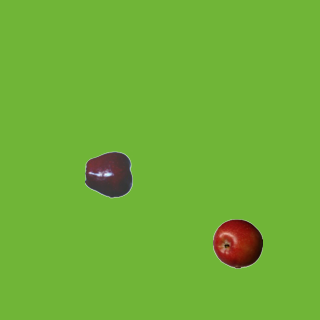Apple Braeburn: (212, 218, 262, 268)
Apple Red Delicious: (84, 149, 134, 199)
